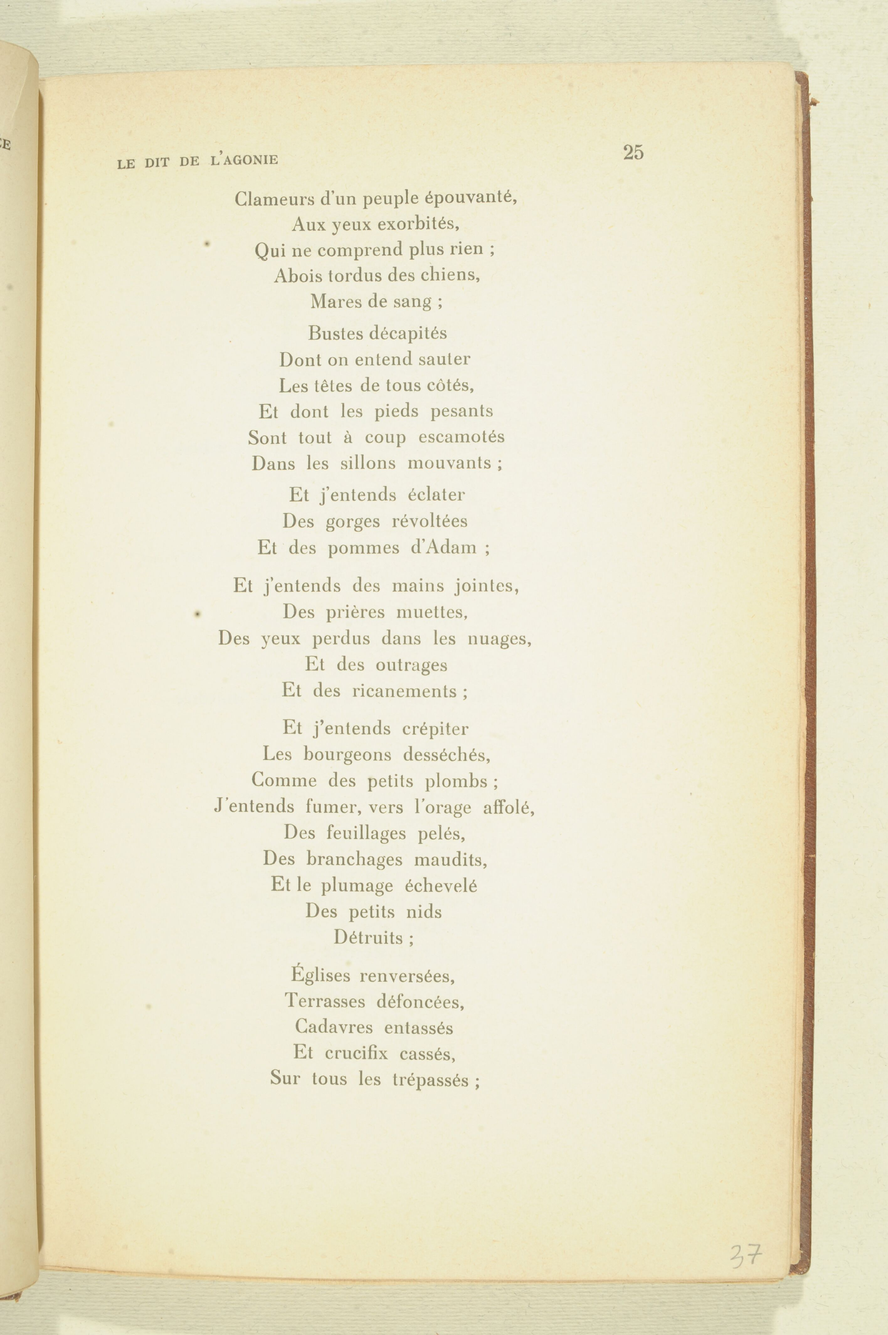N°Page: (621, 140, 652, 163)
TitreCourant: (99, 143, 298, 178)
Vers: (260, 1065, 495, 1109), (211, 791, 559, 817), (249, 452, 519, 484), (230, 182, 527, 209), (258, 739, 503, 771), (275, 950, 478, 988), (226, 576, 523, 601), (260, 843, 497, 874), (217, 629, 538, 651), (250, 535, 493, 564), (270, 678, 483, 711), (253, 238, 503, 264), (246, 772, 507, 794), (252, 405, 510, 427), (274, 266, 491, 289), (242, 431, 515, 449), (282, 1014, 469, 1039), (295, 896, 468, 923), (269, 874, 497, 894), (278, 486, 475, 509), (278, 821, 475, 844), (277, 605, 478, 627), (294, 1044, 470, 1067), (301, 653, 462, 678), (274, 375, 475, 395), (274, 990, 475, 1010), (275, 719, 473, 739), (273, 348, 475, 367), (279, 513, 473, 530), (291, 217, 464, 236), (310, 294, 445, 315), (306, 325, 456, 343), (328, 930, 424, 950)
